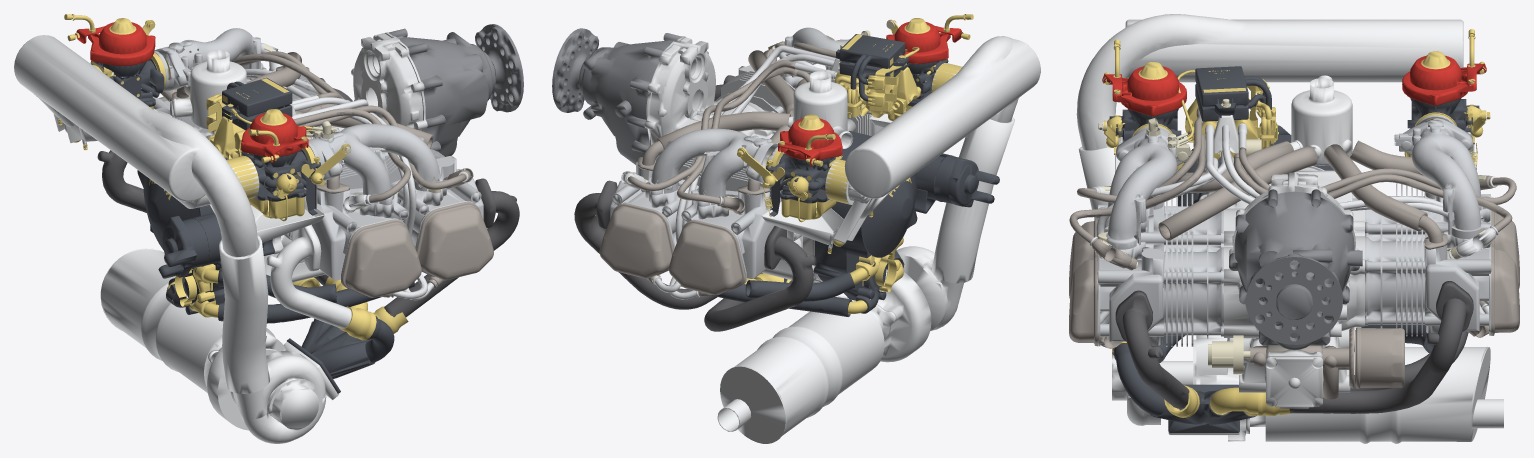
Rendered from rotax_914.glb.
3 views of the same model, side by side, from view 1: azimuth 30°, elevation 25°; view 2: azimuth 150°, elevation 25°; view 3: azimuth 270°, elevation 25° (orthographic). The views are drawn at different scales.
Parts seen in each view (by area): view 1: Rotax914_Turbo_Compressor_6, Rotax914_Turbo_Compressor_15, Rotax914_Turbo_Compressor_7, Rotax914_Prop_Flange.001, Rotax914_Cylinder_Bank_1, Rotax914_Turbo_Compressor_44, Rotax914_Crankcase_Block, Rotax914_Cylinder_Head_3, Rotax914_Plumbing_Exhaust_49, Rotax914_Plumbing_Exhaust_50, Rotax914_Turbo_Compressor_17, Rotax914_Turbo_Turbine_Exhaust_34 (+31 smaller); view 2: Rotax914_Turbo_Compressor_6, Rotax914_Turbo_Compressor_15, Rotax914_Prop_Flange.001, Rotax914_Crankcase_Block, Rotax914_Turbo_Compressor_7, Rotax914_Turbo_Compressor_44, Rotax914_Cylinder_Head_2, Rotax914_Plumbing_Exhaust_51, Rotax914_Plumbing_Exhaust_52, Rotax914_Starter_Motor_10, Rotax914_Cylinder_Head_4, Rotax914_Turbo_Turbine_Exhaust_34 (+27 smaller); view 3: Rotax914_Turbo_Compressor_6, Rotax914_Cylinder_Bank_1, Rotax914_Turbo_Compressor_15, Rotax914_Cylinder_Head_5, Rotax914_Prop_Flange.001, Rotax914_Crankcase_Block, Rotax914_Prop_Flange, Rotax914_Cylinder_Head_2, Rotax914_Starter_Motor_13, Rotax914_Cylinder_Head_3, Rotax914_Turbo_Compressor_8, Rotax914_Starter_Motor_14 (+37 smaller).
Part boxes in pixels (box(x1,y1,x2,y2)): Rotax914_Turbo_Compressor_6: box(14, 35, 325, 256); Rotax914_Turbo_Compressor_15: box(100, 248, 275, 392); Rotax914_Turbo_Compressor_7: box(207, 331, 338, 443); Rotax914_Prop_Flange.001: box(388, 28, 495, 156); Rotax914_Cylinder_Bank_1: box(288, 149, 483, 286); Rotax914_Turbo_Compressor_44: box(219, 235, 269, 393); Rotax914_Crankcase_Block: box(206, 32, 427, 282); Rotax914_Cylinder_Head_3: box(297, 123, 443, 205); Rotax914_Plumbing_Exhaust_49: box(341, 219, 421, 297); Rotax914_Plumbing_Exhaust_50: box(416, 201, 493, 280); Rotax914_Turbo_Compressor_17: box(266, 224, 351, 328); Rotax914_Turbo_Turbine_Exhaust_34: box(158, 204, 264, 278); Rotax914_Turbo_Compressor_6: box(761, 36, 1040, 248); Rotax914_Turbo_Compressor_15: box(717, 296, 896, 443); Rotax914_Prop_Flange.001: box(579, 33, 681, 164); Rotax914_Crankcase_Block: box(644, 36, 855, 283); Rotax914_Turbo_Compressor_7: box(835, 246, 963, 362); Rotax914_Turbo_Compressor_44: box(932, 117, 1014, 283); Rotax914_Cylinder_Head_2: box(648, 128, 782, 206); Rotax914_Plumbing_Exhaust_51: box(668, 220, 745, 295); Rotax914_Plumbing_Exhaust_52: box(599, 203, 674, 278); Rotax914_Starter_Motor_10: box(704, 226, 816, 331); Rotax914_Cylinder_Head_4: box(681, 168, 796, 291); Rotax914_Turbo_Turbine_Exhaust_34: box(914, 153, 999, 213); Rotax914_Turbo_Compressor_6: box(1076, 14, 1474, 194); Rotax914_Cylinder_Bank_1: box(1097, 193, 1223, 346); Rotax914_Turbo_Compressor_15: box(1246, 346, 1503, 443); Rotax914_Cylinder_Head_5: box(1365, 222, 1491, 336); Rotax914_Prop_Flange.001: box(1229, 189, 1362, 350); Rotax914_Crankcase_Block: box(1199, 166, 1364, 392); Rotax914_Prop_Flange: box(1246, 253, 1342, 344); Rotax914_Cylinder_Head_2: box(1394, 115, 1491, 238); Rotax914_Starter_Motor_13: box(1289, 281, 1473, 413); Rotax914_Cylinder_Head_3: box(1098, 126, 1190, 249); Rotax914_Turbo_Compressor_8: box(1290, 78, 1352, 165); Rotax914_Starter_Motor_14: box(1115, 290, 1189, 408).
Bounding box in the file's own units: 2 × 1.57 × 1.74.
